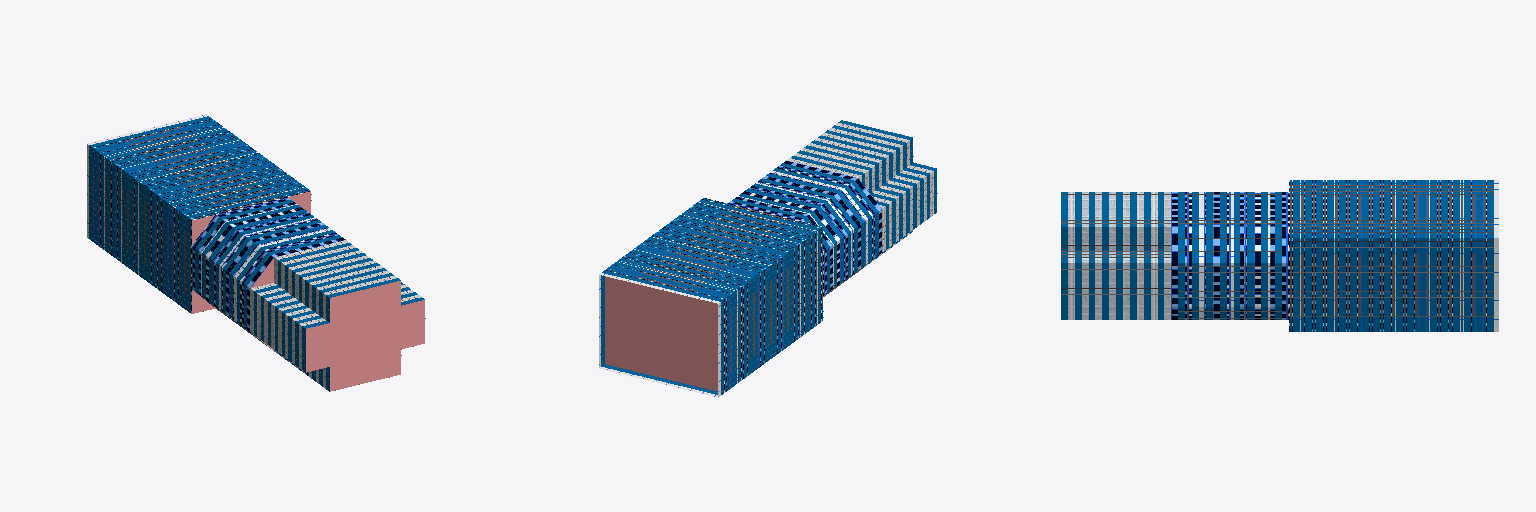
3 views of the same model, side by side, from view 1: azimuth 30°, elevation 25°; view 2: azimuth 150°, elevation 25°; view 3: azimuth 270°, elevation 25° (orthographic).
Visible parts, largest first — view 1: glass_01, slab_01, wall_03, wall_1_01, wall_02, frame_01, glass_1_01, glass_02; view 2: glass_01, slab_01, wall_03, wall_1_01, wall_02, frame_01, glass_1_01, glass_02, wall_01; view 3: glass_01, wall_03, wall_1_01, frame_01, wall_02, glass_1_01, glass_02, wall_01.
Boxes of the visible parts, box(x1,y1,x2,y2) form: glass_01: box(89, 116, 424, 391); slab_01: box(192, 191, 424, 391); wall_03: box(192, 197, 344, 348); wall_1_01: box(250, 240, 420, 388); wall_02: box(94, 119, 309, 313); frame_01: box(89, 119, 425, 390); glass_1_01: box(93, 126, 279, 297); glass_02: box(93, 119, 309, 312); glass_01: box(601, 120, 936, 394); slab_01: box(605, 276, 717, 391); wall_03: box(728, 161, 881, 295); wall_1_01: box(786, 123, 933, 269); wall_02: box(606, 198, 821, 392); frame_01: box(601, 121, 937, 392); glass_1_01: box(636, 205, 822, 376); glass_02: box(606, 198, 822, 391); wall_01: box(599, 273, 720, 397); glass_01: box(1061, 180, 1493, 331); wall_03: box(1171, 192, 1288, 319); wall_1_01: box(1068, 192, 1170, 319); frame_01: box(1061, 185, 1493, 318); wall_02: box(1289, 180, 1486, 331); glass_1_01: box(1290, 195, 1485, 315); glass_02: box(1290, 180, 1485, 331); wall_01: box(1494, 180, 1498, 331).
Bounding box in the file's own units: 1460 × 1096 × 4615.
Materials: 6 (2 with a texture image).